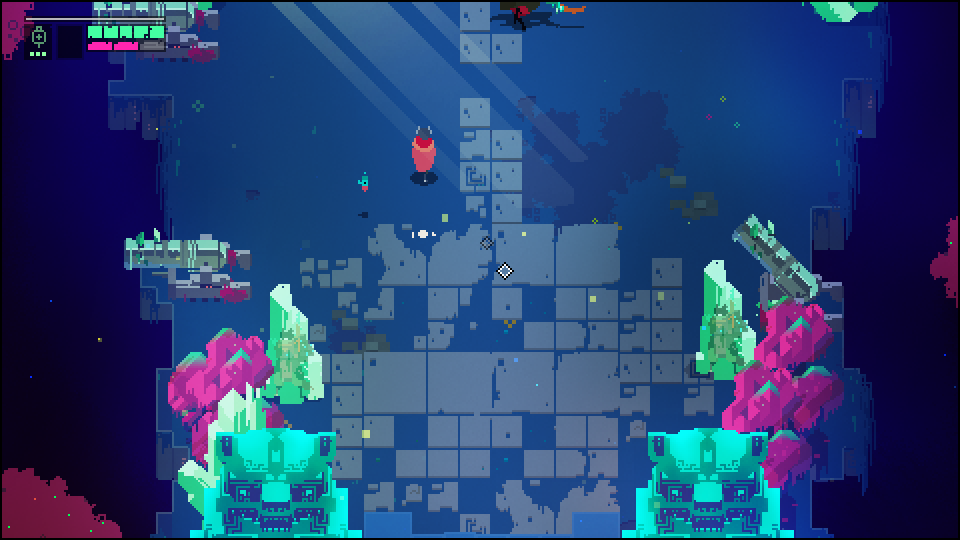player: (408, 124, 434, 181)
